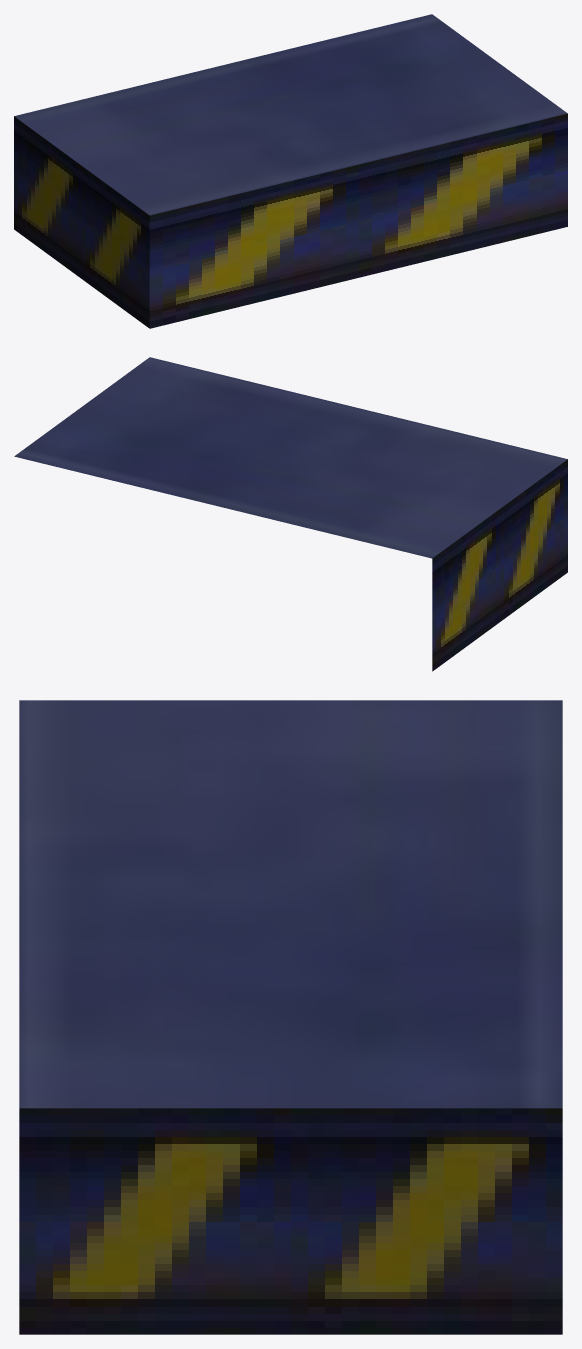
Rendered from toonblitz_block6.glb.
3 renders of one model, top to bottom at view 1: azimuth 30°, elevation 25°; view 2: azimuth 150°, elevation 25°; view 3: azimuth 270°, elevation 25°, orthographic. The views are drawn at different scales.
Visible parts, largest first — view 1: blocksides, blocktop; view 2: blocktop, blocksides; view 3: blocktop, blocksides.
Part boxes in pixels (left/top/right/bottom): blocksides: left=14, top=113, right=567, bottom=328; blocktop: left=14, top=14, right=567, bottom=215; blocktop: left=14, top=357, right=567, bottom=558; blocksides: left=432, top=459, right=567, bottom=671; blocktop: left=19, top=700, right=562, bottom=1108; blocksides: left=19, top=1108, right=562, bottom=1334.
Size of the model in its own units: 6 by 1.55 by 3.37.
Materials: 2 (2 with a texture image).
